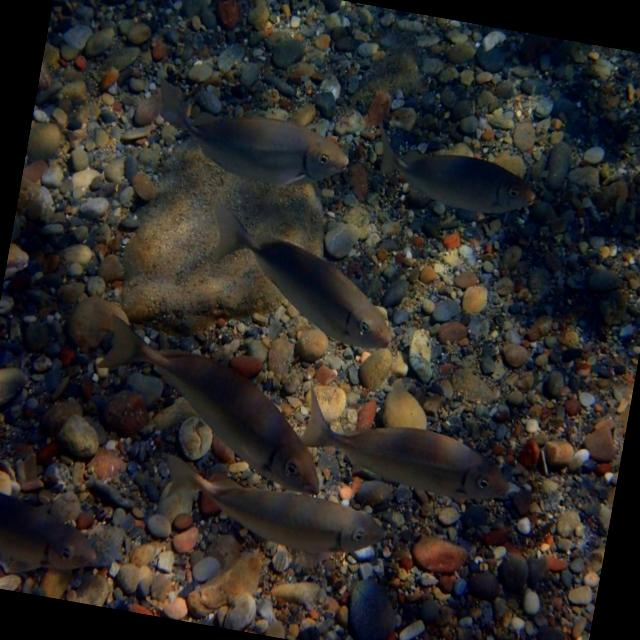Sokar Baligi: (148, 444, 398, 574), (130, 64, 364, 202), (352, 120, 550, 228)
